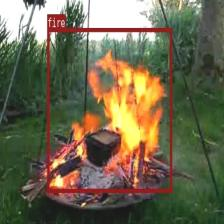fire: (47, 27, 172, 192)
